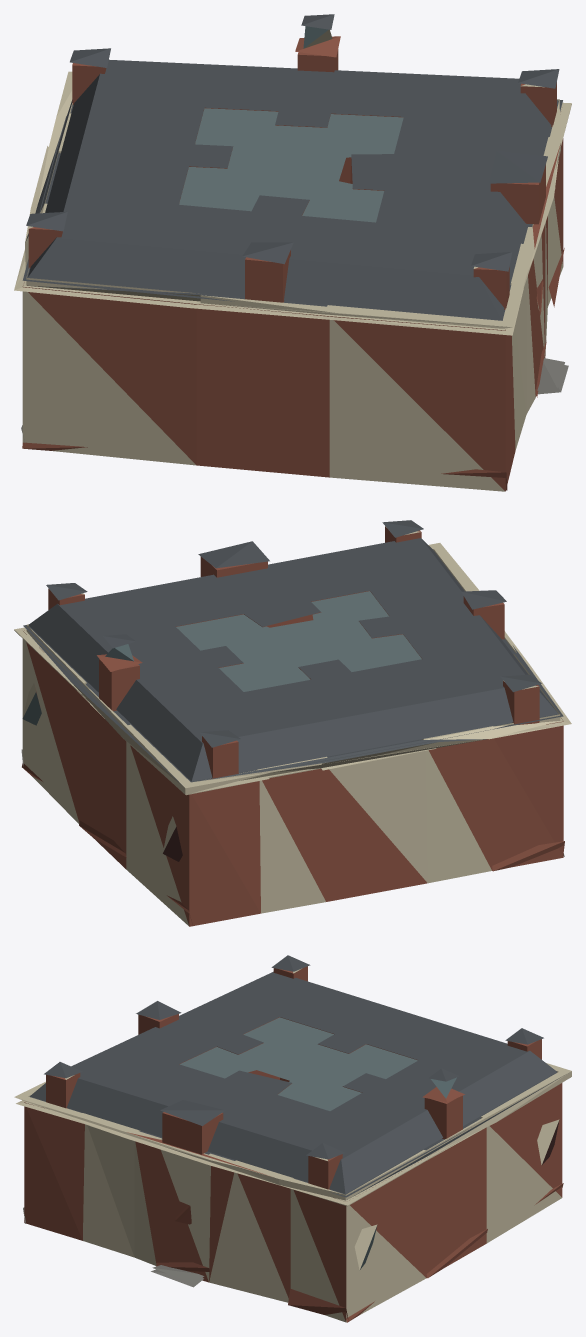
File: droogbak.lod2.glb
The picture shows the model from 3 angles, top to bottom: view 1: azimuth 30°, elevation 25°; view 2: azimuth 150°, elevation 25°; view 3: azimuth 270°, elevation 25°; orthographic projection. The views are drawn at different scales.
Visible parts, largest first — view 1: lod2; view 2: lod2; view 3: lod2.
Boxes of the visible parts, x1,y1,x2,y2 form: lod2: [14, 14, 571, 491]; lod2: [14, 520, 571, 926]; lod2: [14, 955, 571, 1322].
Size of the model in its own units: 72.77 by 27.8 by 77.24.
